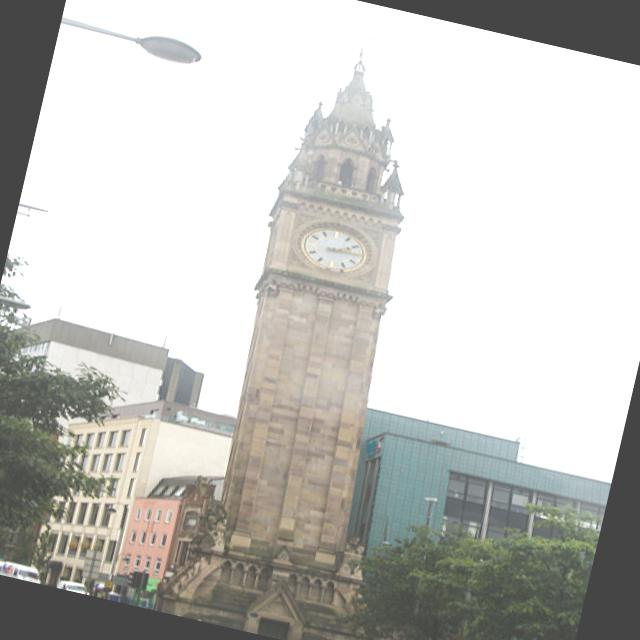Vehicle: (0, 558, 43, 583), (54, 577, 90, 595)
